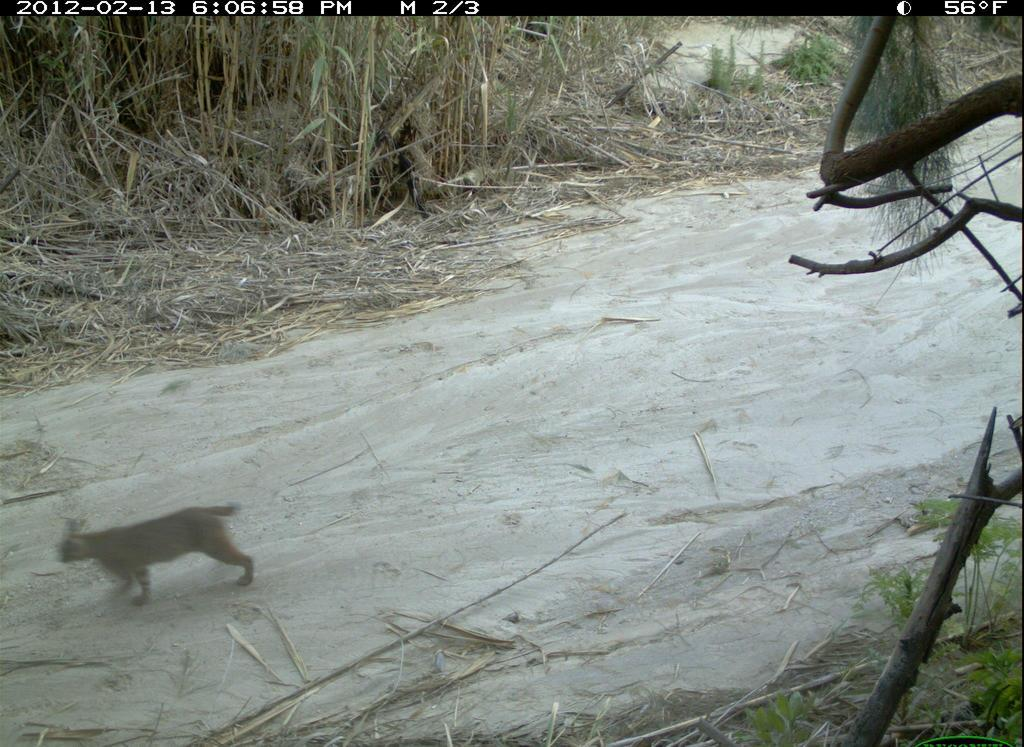bobcat: (47, 487, 265, 617)
